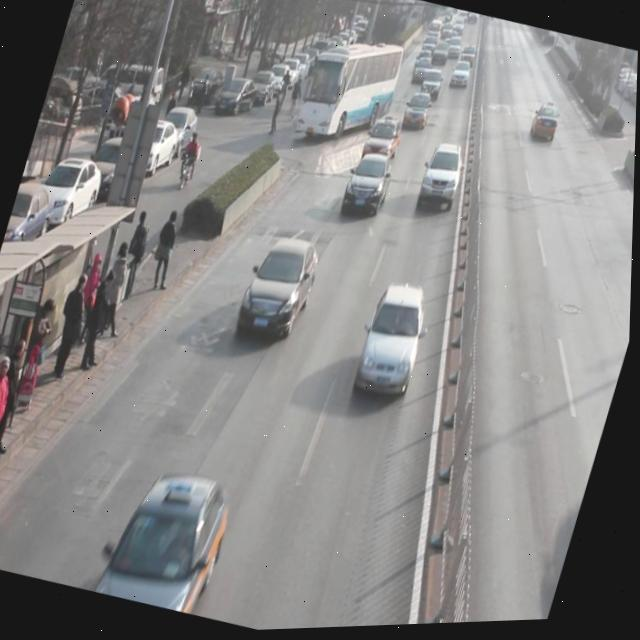car: (93, 454, 245, 621), (233, 231, 326, 351), (352, 279, 438, 406), (336, 149, 398, 227), (415, 142, 469, 218), (359, 116, 407, 172), (526, 104, 564, 150), (399, 92, 436, 137), (416, 67, 447, 107)
van: (289, 29, 406, 160)
